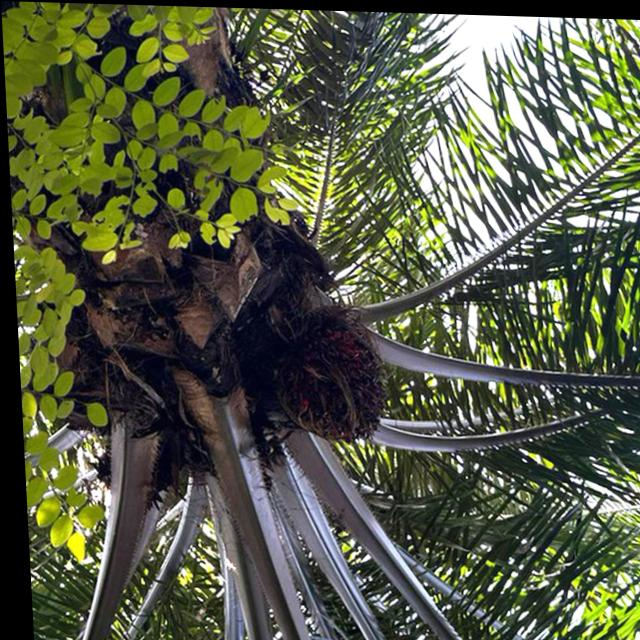ripe: (266, 315, 383, 450)
